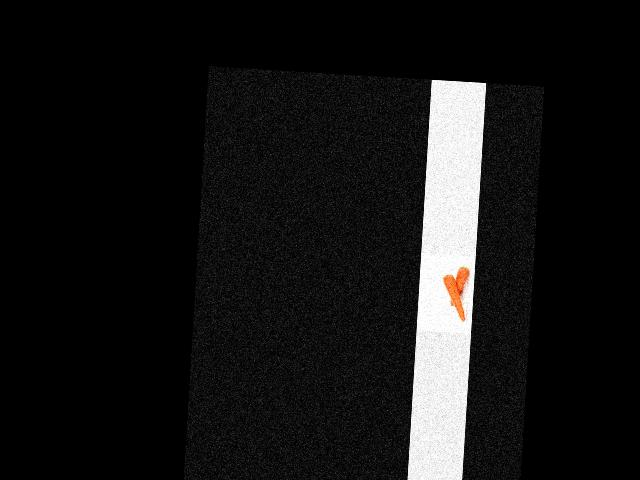carrot: (448, 263, 470, 310)
